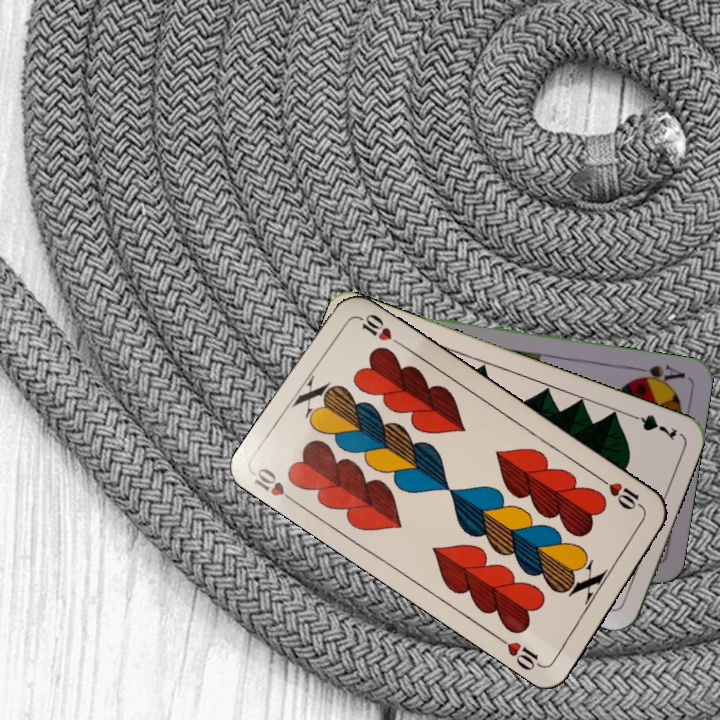G7: (623, 409, 680, 443)
H10: (249, 464, 302, 508), (596, 474, 648, 515)
SA: (627, 360, 688, 388)
